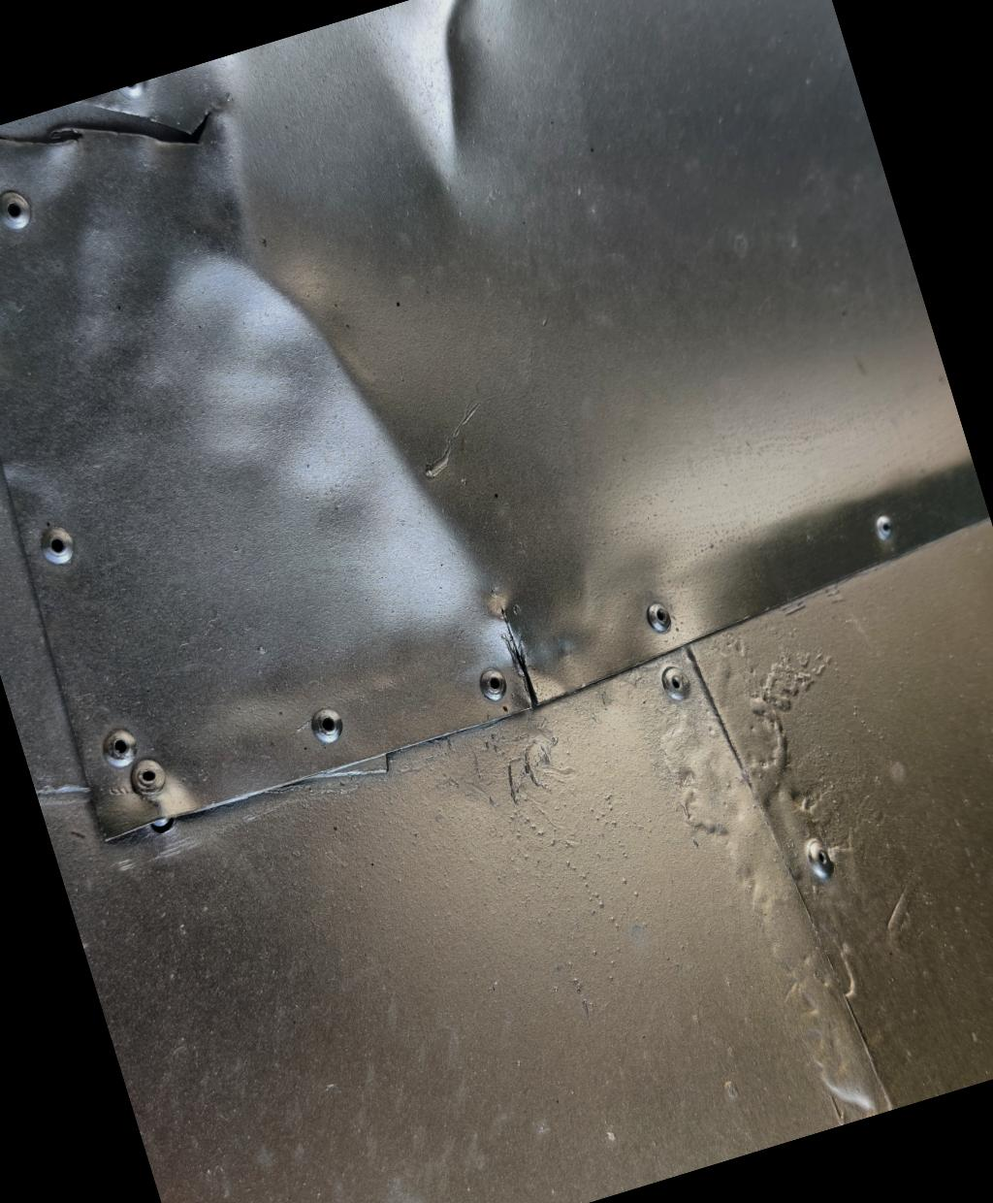crack: (0, 59, 244, 246), (475, 582, 572, 731)
dent: (83, 116, 643, 775), (320, 0, 607, 270)
